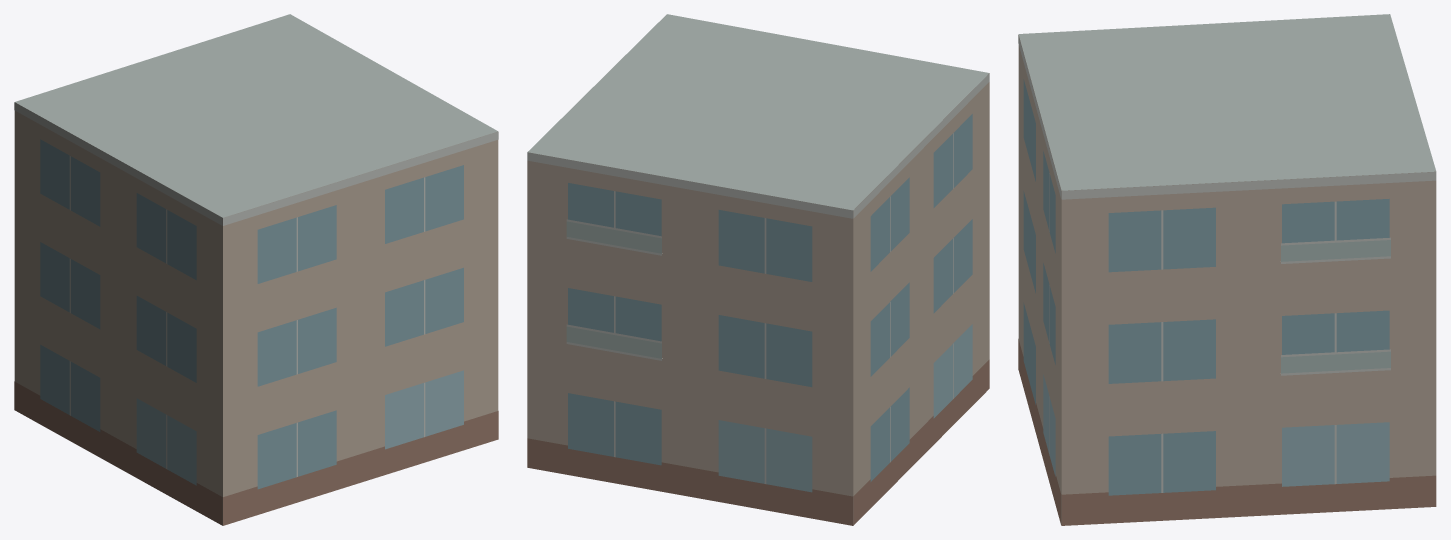
Rendered from survey-upis-32534232.glb.
3 renders of one model, left to right at view 1: azimuth 30°, elevation 25°; view 2: azimuth 150°, elevation 25°; view 3: azimuth 270°, elevation 25°, orthographic. The views are drawn at different scales.
Visible parts, largest first — view 1: survey-upis-32534232.tmp; view 2: survey-upis-32534232.tmp; view 3: survey-upis-32534232.tmp.
Boxes of the visible parts, left/top/right/bottom form: survey-upis-32534232.tmp: left=14, top=14, right=498, bottom=525; survey-upis-32534232.tmp: left=527, top=14, right=989, bottom=525; survey-upis-32534232.tmp: left=1018, top=14, right=1436, bottom=525.
Bounding box in the file's own units: 10.36 × 9.15 × 10.35.
